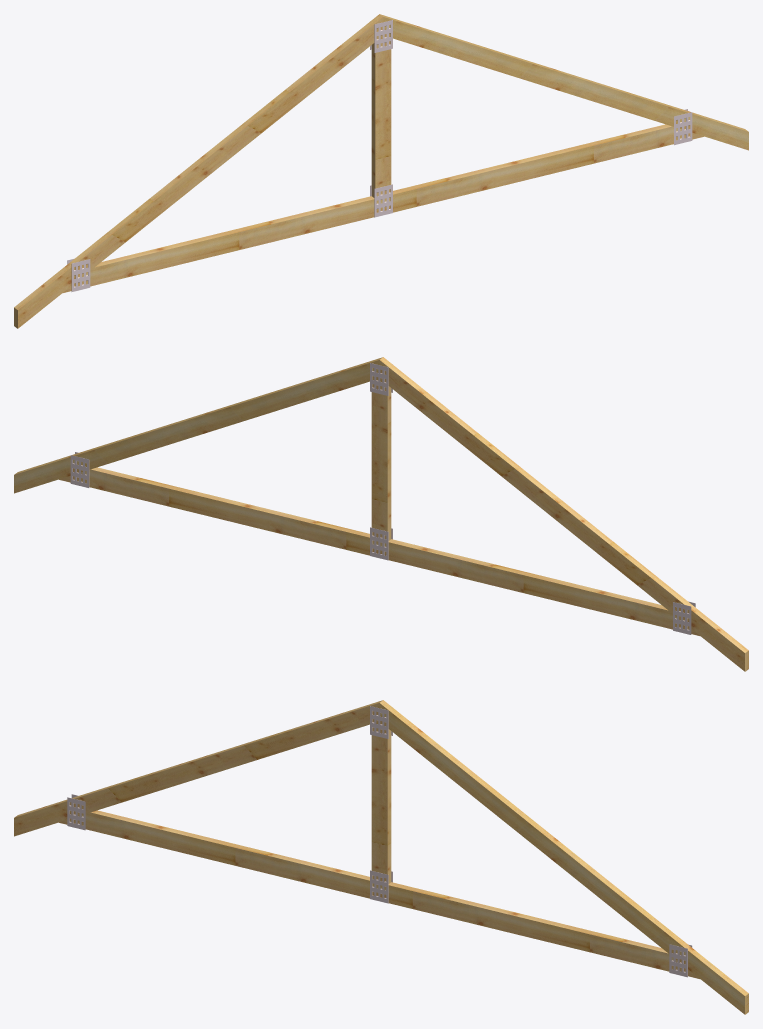
Rendered from truss roofing.glb.
3 renders of one model, top to bottom at view 1: azimuth 30°, elevation 25°; view 2: azimuth 150°, elevation 25°; view 3: azimuth 330°, elevation 25°, orthographic.
Parts seen in each view (by area): view 1: Lowplank, topplank.001, topplank, middleplank, NailPlat.005, NailPlat.006, NailPlat.007; view 2: Lowplank, topplank.001, topplank, middleplank, NailPlat.001, NailPlat.003; view 3: Lowplank, topplank, topplank.001, middleplank, NailPlat.006, NailPlat.005, NailPlat.007, NailPlat.004.
Part boxes in pixels (<box>): Lowplank: <box>63,124,703,292</box>; topplank.001: <box>14,14,383,328</box>; topplank: <box>380,14,748,150</box>; middleplank: <box>371,36,391,197</box>; NailPlat.005: <box>374,184,392,217</box>; NailPlat.006: <box>71,259,90,291</box>; NailPlat.007: <box>374,20,392,52</box>; Lowplank: <box>59,467,699,635</box>; topplank.001: <box>379,357,748,671</box>; topplank: <box>14,357,382,493</box>; middleplank: <box>371,379,391,540</box>; NailPlat.001: <box>370,527,388,560</box>; NailPlat.003: <box>70,455,89,487</box>; Lowplank: <box>59,810,699,978</box>; topplank: <box>379,700,748,1014</box>; topplank.001: <box>14,700,382,836</box>; middleplank: <box>371,722,391,883</box>; NailPlat.006: <box>67,797,85,830</box>; NailPlat.005: <box>370,870,388,903</box>; NailPlat.007: <box>370,706,388,738</box>; NailPlat.004: <box>669,944,687,977</box>.
Bounding box in the file's own units: 5.19 × 1.51 × 0.0545.
Materials: 2 (1 with a texture image).
